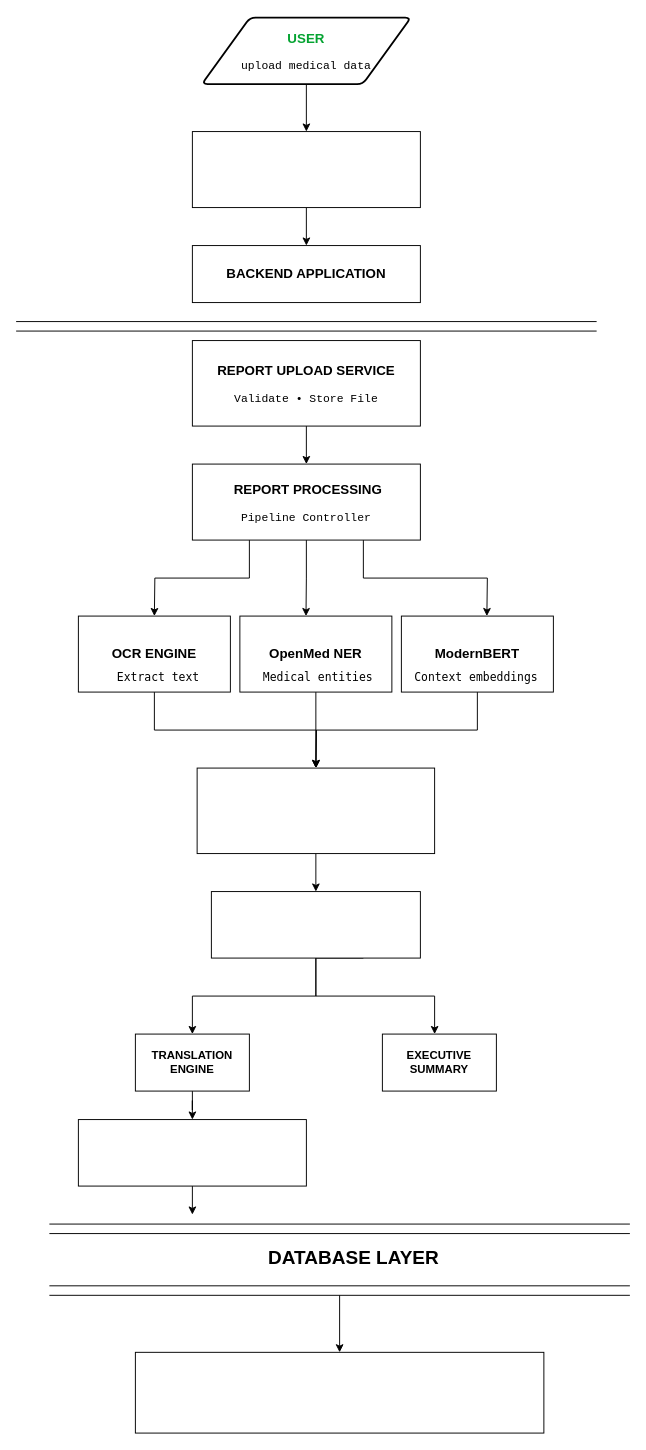
Some shapes in this 646 by 1450 pixel diagram are drawn without their labels. Each missing label, with the centre of its shape:
AIPA Difficulty Prediction: the point at 315,810
FRONTEND/ WEB APP Upload • View Reports • Download: the point at 305,169
PROJECT VAANI Accent & Speech Generation: the point at 191,1152
Qwen / Granite LLM Report Simplification: the point at 315,924
User Dashboard Simplified Report | Audio Explanation│ Download PDF: the point at 339,1392
